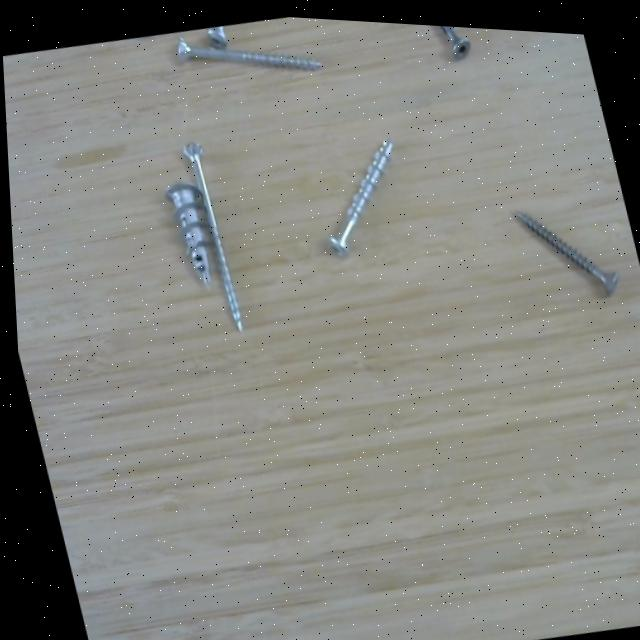Black screw: (502, 185, 626, 299), (435, 20, 481, 58)
Long screw: (179, 133, 245, 331), (172, 33, 326, 76)
Medium screw: (319, 126, 403, 264)
Short screw: (157, 179, 219, 292)
